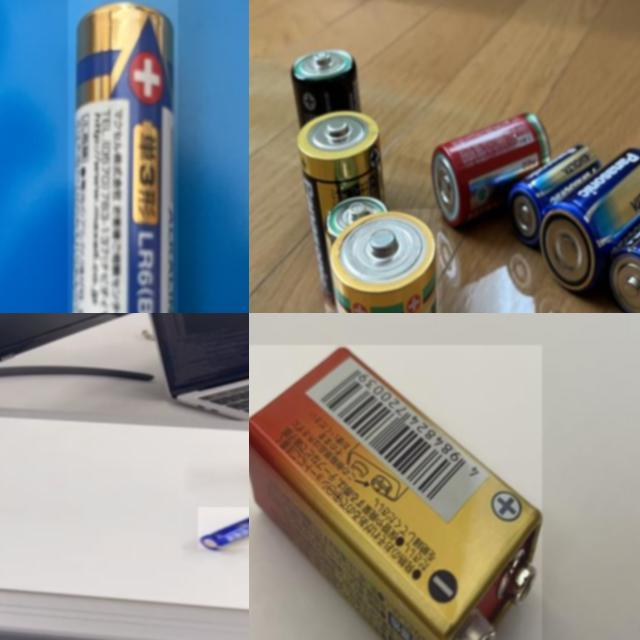9V: (249, 345, 542, 640)
